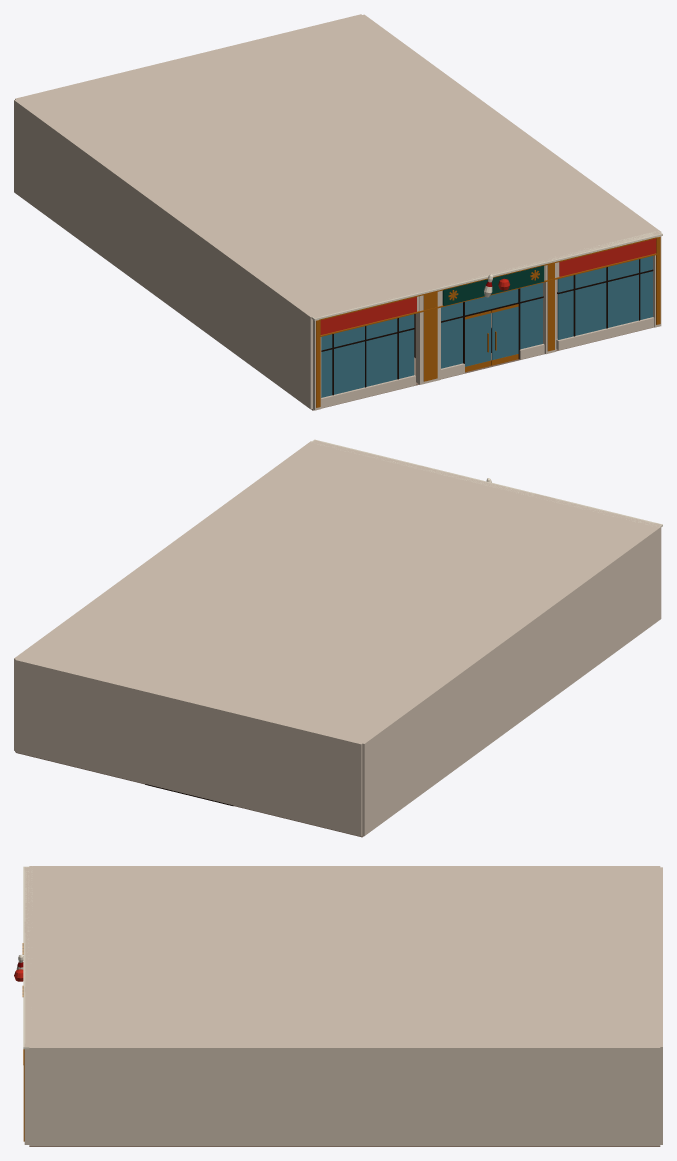
File: cozy_bowling_mall_shell.obj
3 renders of one model, top to bottom at view 1: azimuth 30°, elevation 25°; view 2: azimuth 150°, elevation 25°; view 3: azimuth 270°, elevation 25°, orthographic. The views are drawn at different scales.
Parts seen in each view (by area): view 1: Shell_Mesh; view 2: Shell_Mesh; view 3: Shell_Mesh.
Part boxes in pixels (x1=…): Shell_Mesh: x1=14, y1=14, x2=662, y2=410; Shell_Mesh: x1=14, y1=439, x2=662, y2=837; Shell_Mesh: x1=14, y1=866, x2=662, y2=1146.
Size of the model in its own units: 16.7 by 4.42 by 25.18.
